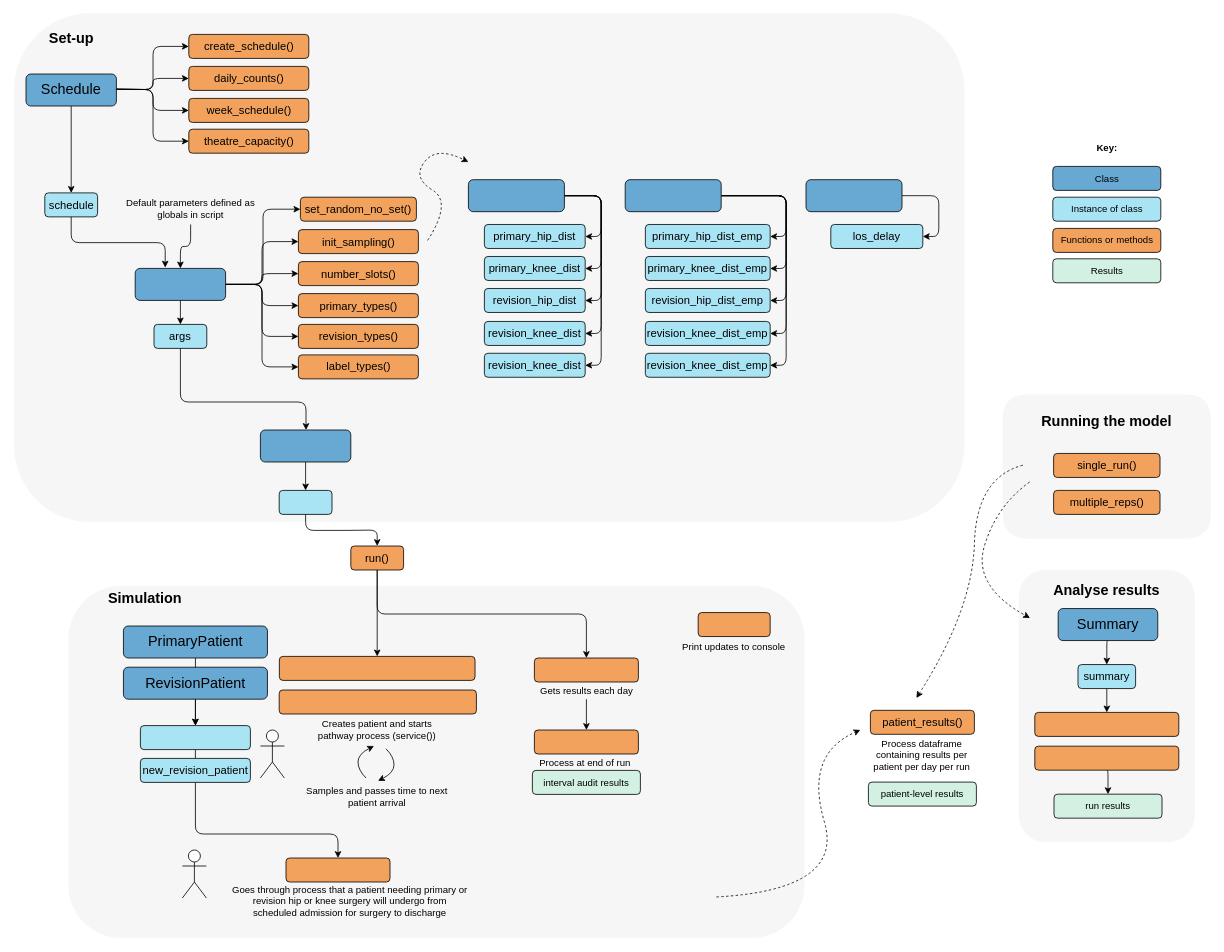
Image size: 1224x952. Some labels were removed from this diagram. The shapes that lost their labels are listed below. From the top down, each one's centre as x and y in pixels, then its label:
the point at 516,195: LogNormal
the point at 672,195: Empirical
the point at 853,195: Bernoulli
the point at 180,284: Scenario
the point at 305,445: Hospital
the point at 305,502: model
the point at 733,624: trace()
the point at 377,668: patient_arrivals_generator_primary()
the point at 586,669: perform_audit()
the point at 377,701: patient_arrivals_generator_revision()
the point at 195,737: new_primary_patient
the point at 586,741: audit_frame()
the point at 1106,724: process_run_results()
the point at 1106,757: summary_frame()
the point at 337,869: service()
